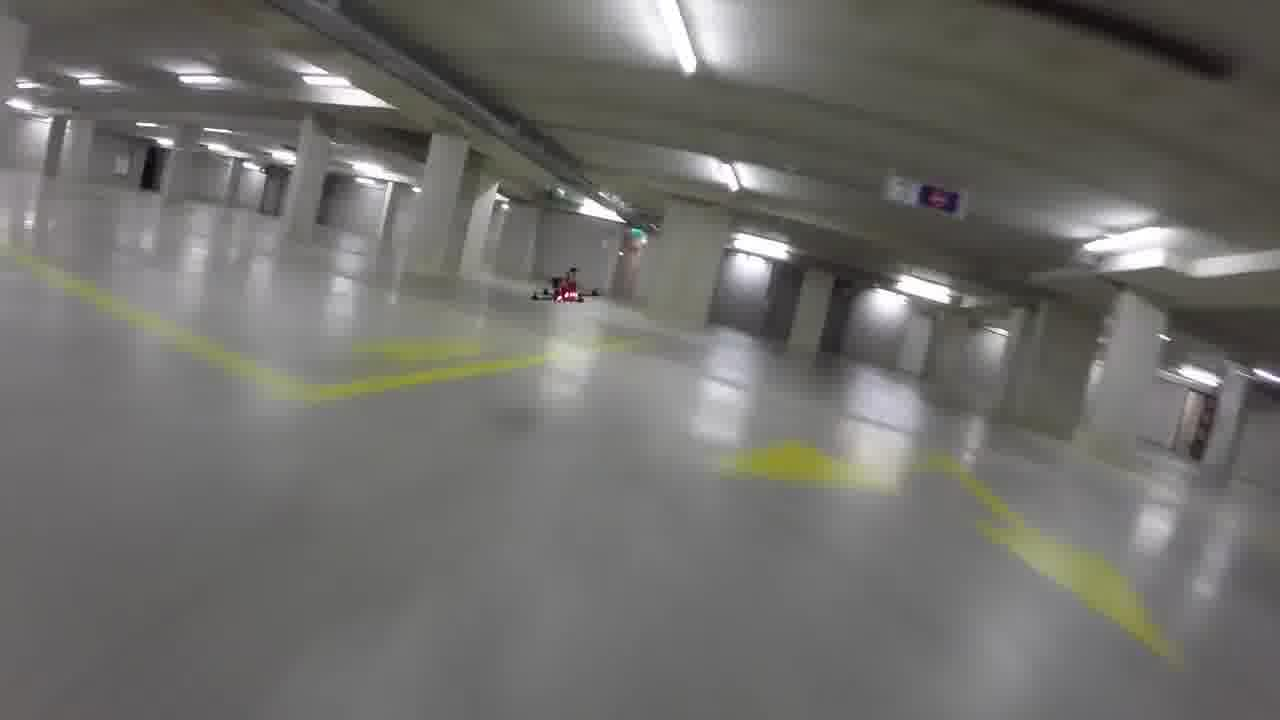drone: (520, 269, 603, 321)
